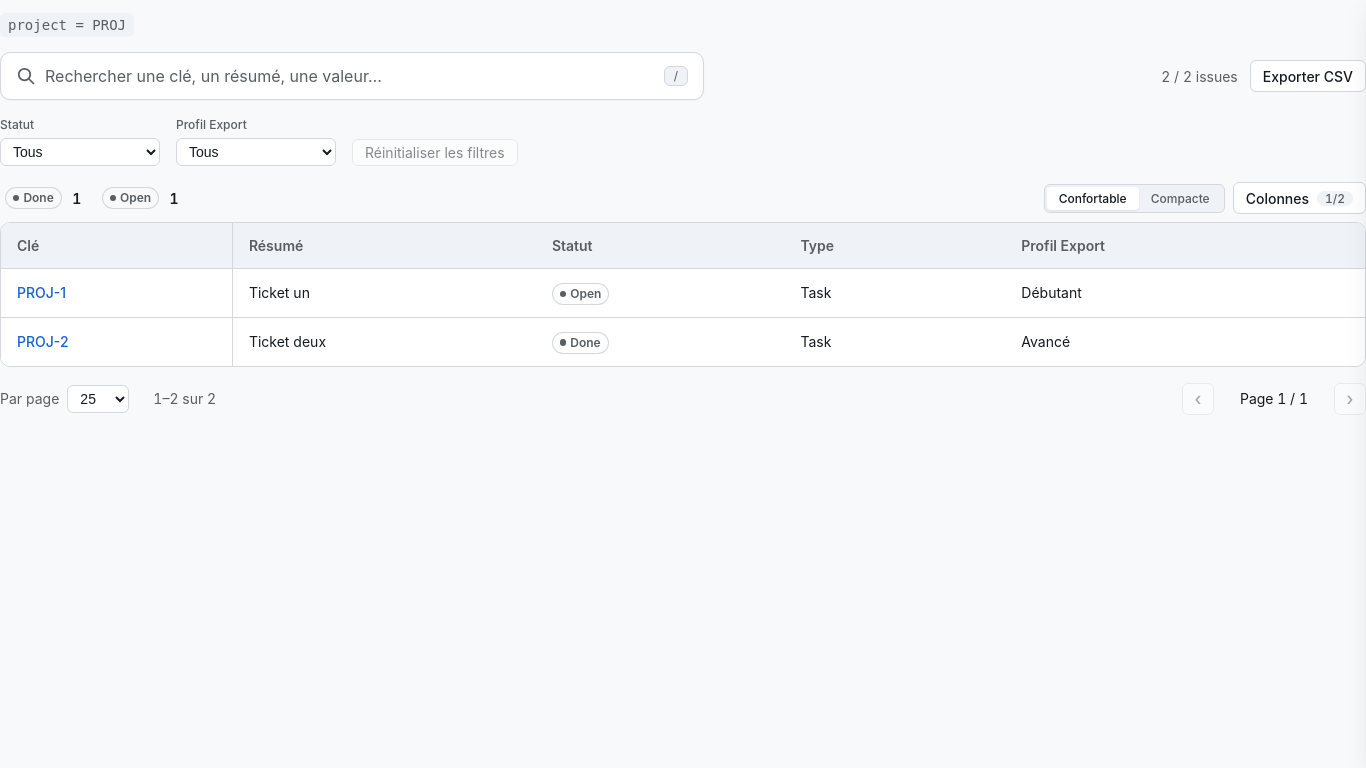
Test: IssueList › lets the user add an available field as a column
This screenshot has width=1366, height=768.
Check: the text "Acme" is not shown
Click the button "Colonnes 1/2" at x=1299, y=198, box [1233,182,1365,214]
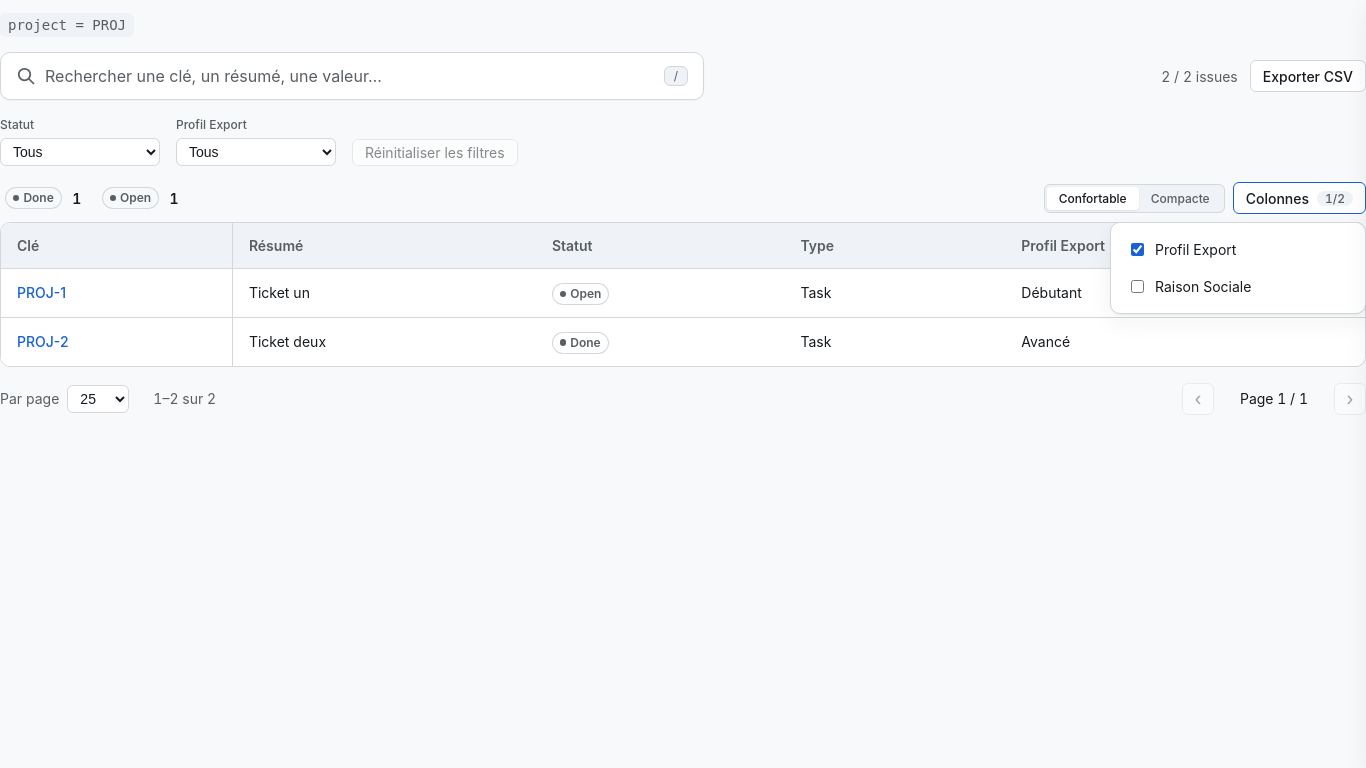
Click the checkbox labelled "Raison Sociale" at x=1138, y=286, box [1131,280,1144,293]
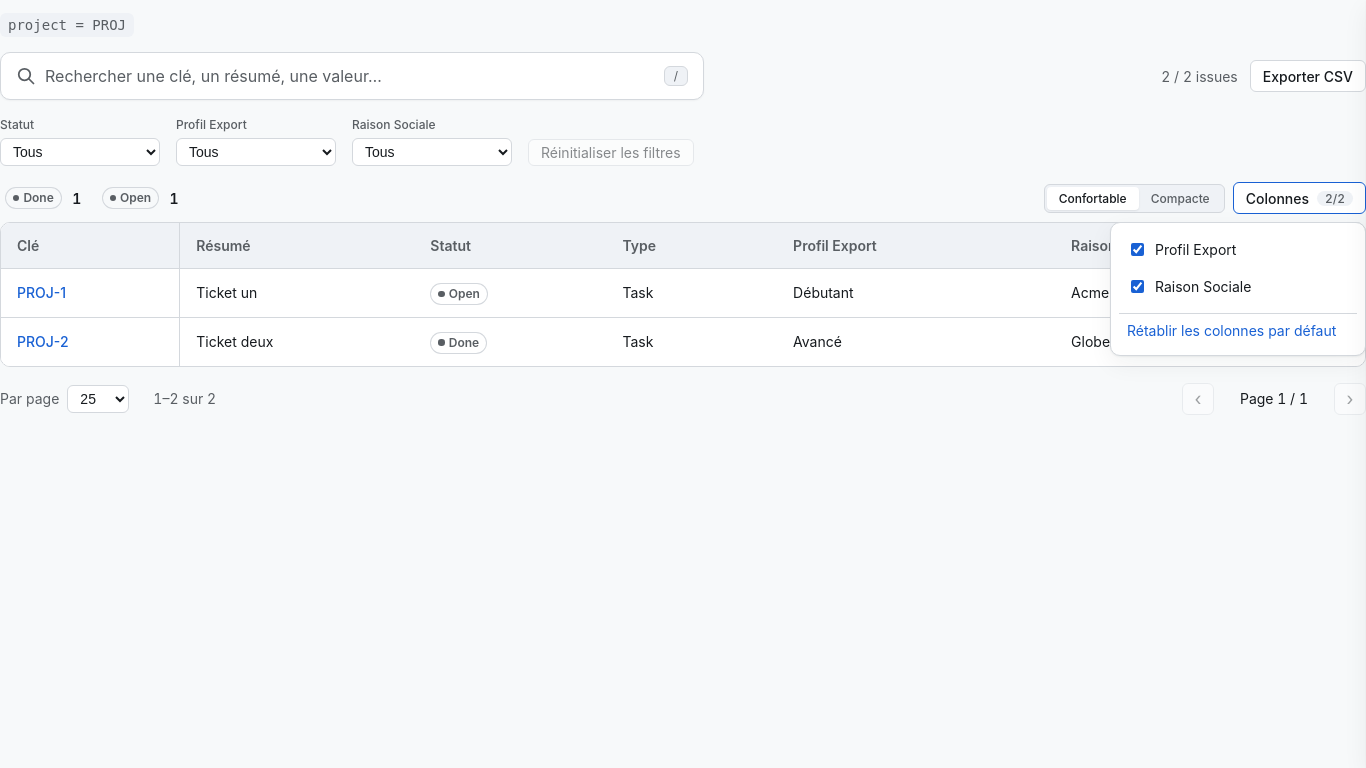
Check: the column heading "Raison Sociale" is shown, box [1055,223,1365,269]
Check: the text "Acme" is shown, box [1055,269,1365,318]
Check: the dropdown labelled "Raison Sociale" is shown, box [352,138,512,166]
